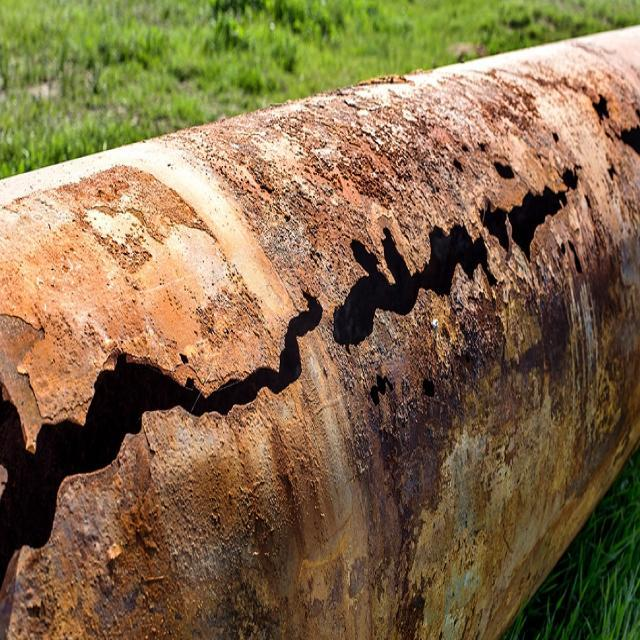corrosion: (0, 22, 640, 640)
